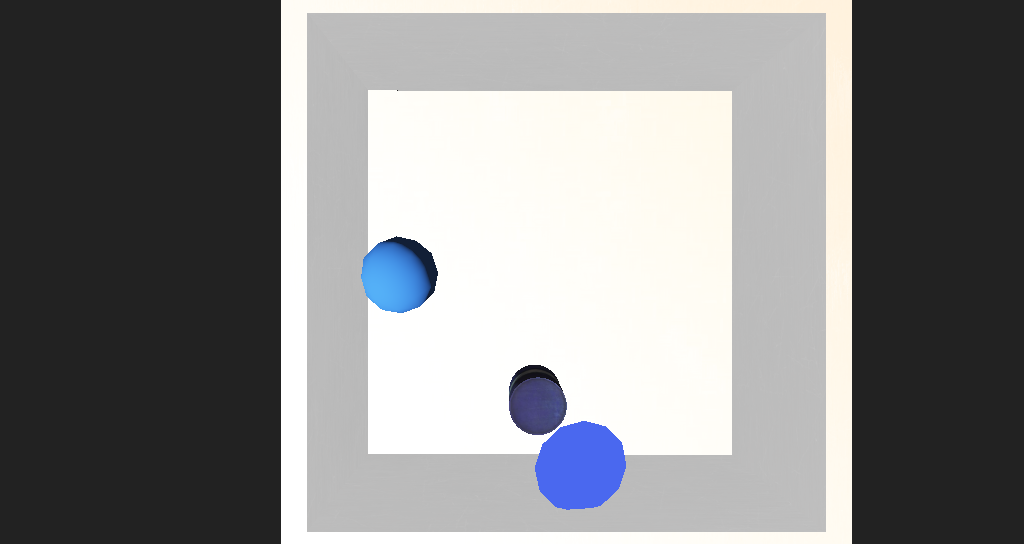cone: (468, 322, 515, 365)
cylinder: (475, 341, 563, 403)
sphere: (354, 251, 414, 293)
